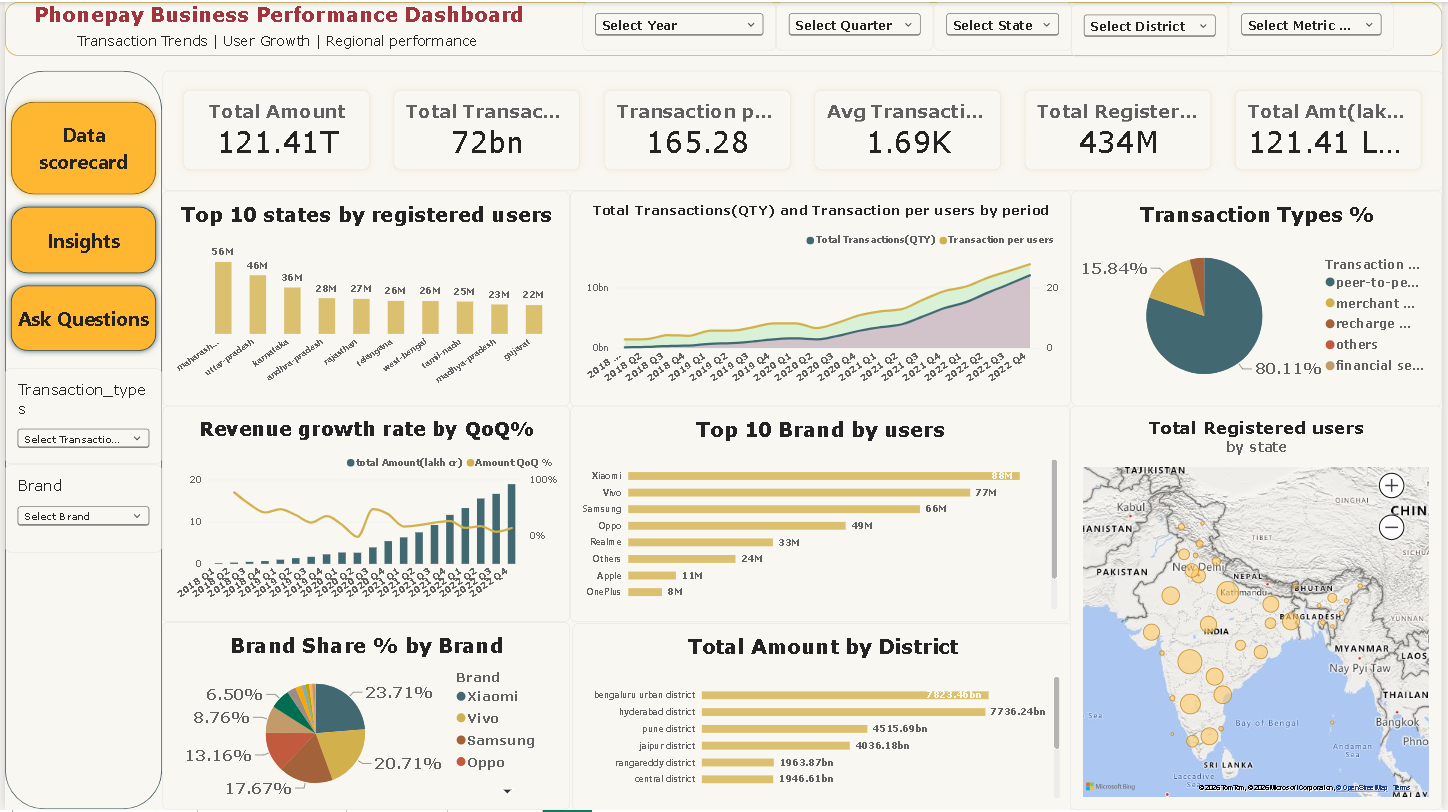

Layout of this report page (visuals, bound fields, positions):
{"tool":"powerbi","page":{"name":"Executive Overview","canvas":[1920,1080],"ordinal":0},"visuals":[{"type":"cardVisual","fields":{"Data":["measure.Total Transaction Amount","measure.Total Transactions(QTY)","measure.transaction per users","measure.Average Transaction Value","measure.Total Registered Users","measure.Total Amount(lakh_cr)"]},"box":[210,92,1710,160],"z":0},{"type":"shape","box":[0,0,1920,72],"z":1000},{"type":"textbox","box":[38.3,0,733.3,71.7],"z":2000},{"type":"clusteredColumnChart","title":"Top 10 states by registered users","fields":{"Category":["dim_state.State"],"Y":["measure.Total Registered Users"]},"box":[210,252,544,288],"z":3000},{"type":"areaChart","fields":{"Category":["dim_date.period"],"Y":["measure.Total Transactions(QTY)"],"Y2":["measure.transaction per users"]},"box":[754,252,669,288],"z":4000},{"type":"lineStackedColumnComboChart","title":"Revenue growth rate by QoQ%","fields":{"Category":["dim_date.period"],"Y":["measure.total Amount(lakh cr)"],"Y2":["measure.Amount QoQ %"]},"box":[210,540,544,289],"z":5000},{"type":"clusteredBarChart","fields":{"Category":["dim_district.District"],"Y":["measure.Total Amount"]},"box":[757.5,830,668,251],"z":6000},{"type":"pieChart","title":"Transaction Types %","fields":{"Category":["dim_transaction_type.Transaction_types"],"Y":["measure_2.type share%"]},"box":[1425,252,495,288],"z":7000},{"type":"pieChart","fields":{"Category":["dim_brand.Brand"],"Y":["measure_2.Brand Share %"]},"box":[210,829,544,251],"z":8000},{"type":"clusteredBarChart","title":"Top 10 Brand by users","fields":{"Category":["dim_brand.Brand"],"Y":["measure_2.Brand Users"]},"box":[755,540,668,289],"z":9000},{"type":"map","title":"Total Registered users","fields":{"Category":["dim_state.State"],"Size":["measure.Total Registered Users"]},"box":[1423,540,497,540],"z":10000},{"type":"listSlicer","fields":{"Values":["dim_date.Year"]},"box":[772.2,0,258.8,64.7],"z":11000},{"type":"listSlicer","fields":{"Values":["dim_date.Quarter"]},"box":[1030.7,0,209.8,64.4],"z":12000},{"type":"listSlicer","fields":{"Values":["dim_state.State"]},"box":[1240.5,0,184.1,64.4],"z":13000},{"type":"listSlicer","fields":{"Values":["dim_district.District"]},"box":[1424.5,1.8,209.8,71.8],"z":14000},{"type":"listSlicer","fields":{"Values":["Metric Selector.Metric Selector"]},"box":[1634.4,0,220.9,64.4],"z":15000},{"type":"shape","box":[0,92,209.8,986.5],"z":16000},{"type":"shape","box":[0,125.2,209.8,139.9],"z":17000},{"type":"shape","box":[0,265,209.8,104.9],"z":18000},{"type":"shape","box":[0,369.9,209.8,103.1],"z":19000},{"type":"listSlicer","fields":{"Values":["dim_transaction_type.Transaction_types"]},"box":[0,489.9,209.9,127.6],"z":19001},{"type":"listSlicer","fields":{"Values":["dim_brand.Brand"]},"box":[0,618.4,209.8,117.8],"z":19002}]}

Visuals, with their boxes on the page's 1920x1080 design canvas (x1, y1, x2, y2). These are canvas units, not pixel positions in the 1448x812 screenshot, which may show the page scaled, cropped or inside an application window:
cardVisual - measure.Total Transaction Amount x measure.Total Transactions(QTY): BBox(210, 92, 1920, 252)
shape: BBox(0, 0, 1920, 72)
textbox: BBox(38, 0, 772, 72)
"Top 10 states by registered users" clusteredColumnChart: BBox(210, 252, 754, 540)
areaChart - dim_date.period x measure.Total Transactions(QTY): BBox(754, 252, 1423, 540)
"Revenue growth rate by QoQ%" lineStackedColumnComboChart: BBox(210, 540, 754, 829)
clusteredBarChart - dim_district.District x measure.Total Amount: BBox(758, 830, 1426, 1081)
"Transaction Types %" pieChart: BBox(1425, 252, 1920, 540)
pieChart - dim_brand.Brand x measure_2.Brand Share %: BBox(210, 829, 754, 1080)
"Top 10 Brand by users" clusteredBarChart: BBox(755, 540, 1423, 829)
"Total Registered users" map: BBox(1423, 540, 1920, 1080)
listSlicer - dim_date.Year: BBox(772, 0, 1031, 65)
listSlicer - dim_date.Quarter: BBox(1031, 0, 1240, 64)
listSlicer - dim_state.State: BBox(1240, 0, 1425, 64)
listSlicer - dim_district.District: BBox(1424, 2, 1634, 74)
listSlicer - Metric Selector.Metric Selector: BBox(1634, 0, 1855, 64)
shape: BBox(0, 92, 210, 1078)
shape: BBox(0, 125, 210, 265)
shape: BBox(0, 265, 210, 370)
shape: BBox(0, 370, 210, 473)
listSlicer - dim_transaction_type.Transaction_types: BBox(0, 490, 210, 618)
listSlicer - dim_brand.Brand: BBox(0, 618, 210, 736)
